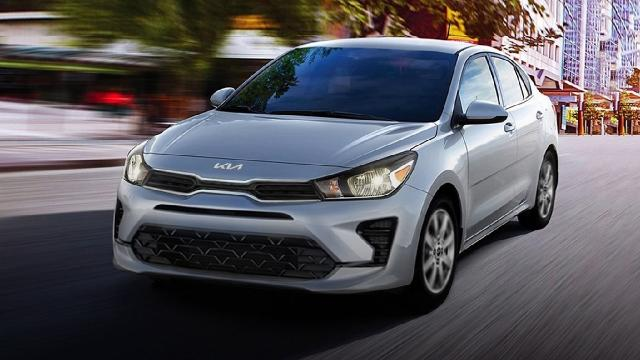kia: (112, 36, 560, 302)
